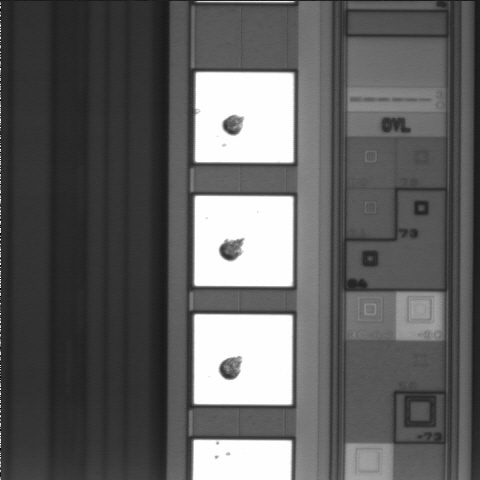pad: (195, 72, 294, 163), (194, 314, 292, 405), (194, 196, 293, 286)
